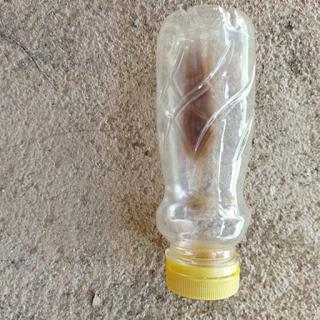Plastic-bottle: (154, 4, 261, 304)
